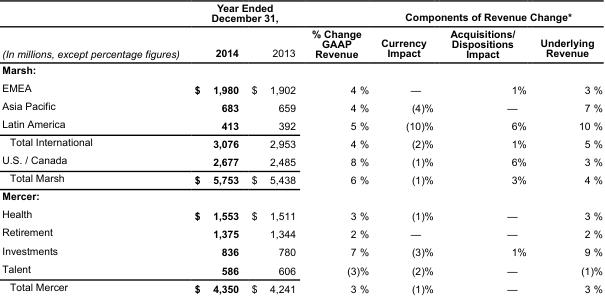table: (1, 1, 602, 293)
table column: (1, 1, 186, 293), (441, 1, 532, 293), (302, 1, 374, 293), (532, 1, 602, 293), (374, 1, 441, 293), (186, 1, 244, 293), (244, 1, 302, 293)
table column header: (1, 1, 602, 61)
table projected row header: (1, 61, 602, 78), (1, 187, 602, 204)
table row: (1, 25, 602, 61), (1, 1, 602, 25), (1, 78, 602, 97), (1, 204, 602, 223), (1, 259, 602, 278), (1, 97, 602, 115), (1, 115, 602, 133), (1, 133, 602, 151), (1, 151, 602, 169), (1, 169, 602, 187), (1, 223, 602, 241), (1, 241, 602, 259), (1, 61, 602, 78), (1, 187, 602, 204), (1, 278, 602, 293)
table spanning cell: (1, 1, 186, 61), (374, 1, 602, 25), (302, 1, 374, 61), (186, 1, 302, 25)
